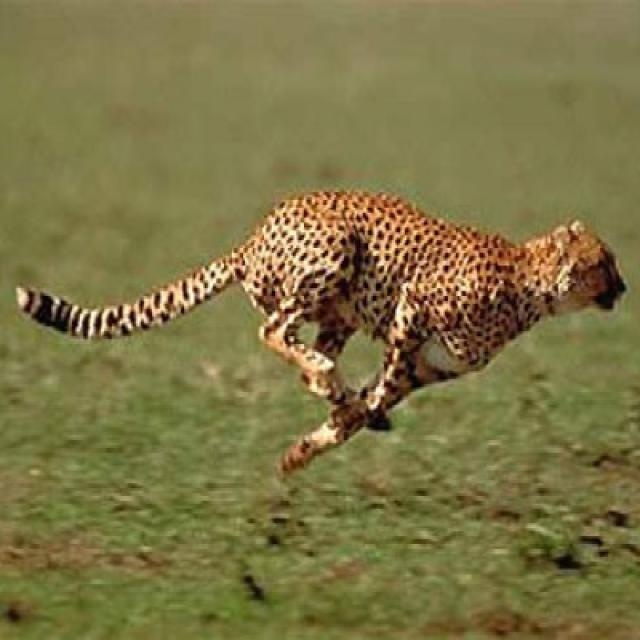Cheetah: (18, 190, 626, 470)
